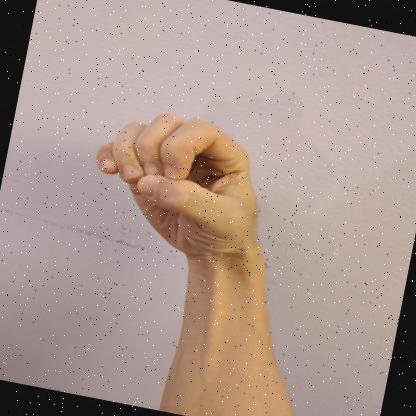O: (96, 113, 257, 270)
